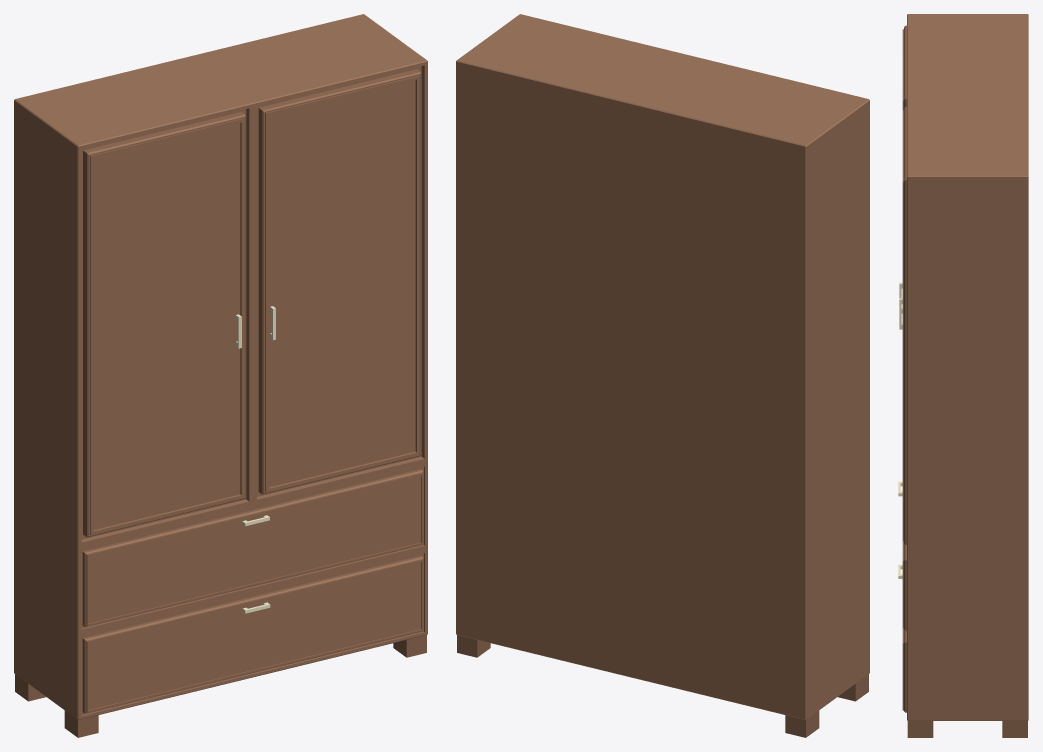
File: Wardrobe.glb
The picture shows the model from 3 angles, left to right: view 1: azimuth 30°, elevation 25°; view 2: azimuth 150°, elevation 25°; view 3: azimuth 270°, elevation 25°; orthographic projection. The views are drawn at different scales.
Parts seen in each view (by area): view 1: Wardrobe; view 2: Wardrobe; view 3: Wardrobe.
Part boxes in pixels (x1=…): Wardrobe: x1=14, y1=14, x2=427, y2=737; Wardrobe: x1=456, y1=14, x2=869, y2=737; Wardrobe: x1=898, y1=14, x2=1028, y2=737.
Bounding box in the file's own units: 1.61 × 2.6 × 0.5464.
1 material, 1 textured.
